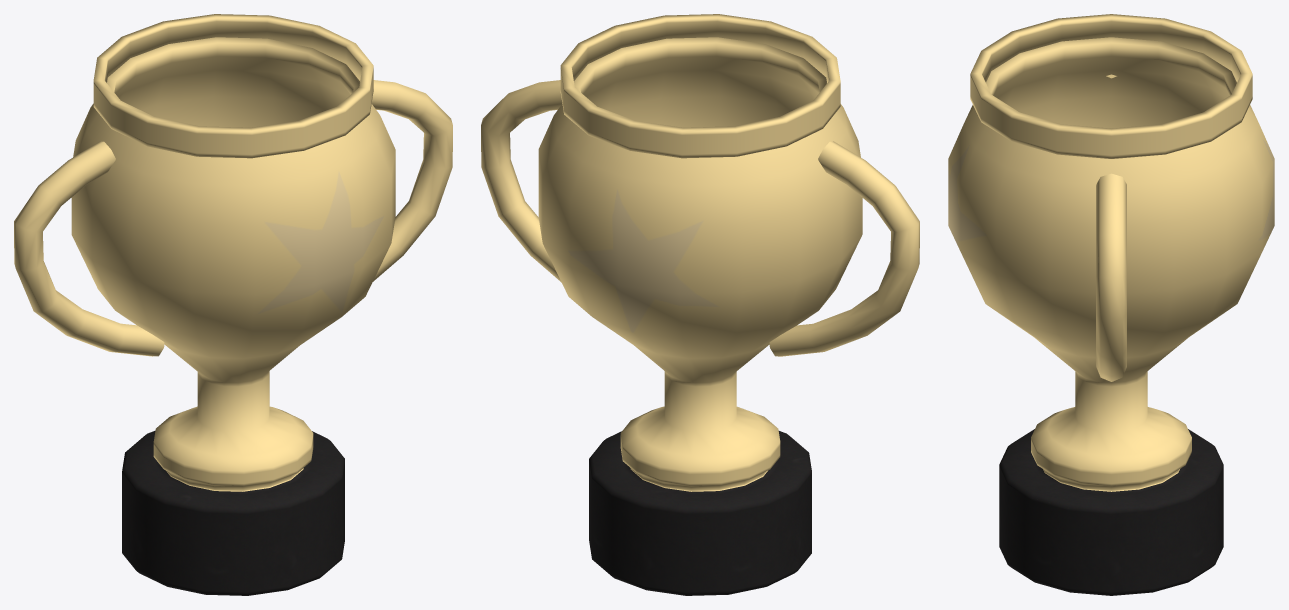
Rendered from wanderpokal_sport.glb.
The picture shows the model from 3 angles, left to right: view 1: azimuth 30°, elevation 25°; view 2: azimuth 150°, elevation 25°; view 3: azimuth 270°, elevation 25°; orthographic projection.
Parts seen in each view (by area): view 1: Circle, Circle.001; view 2: Circle, Circle.001; view 3: Circle, Circle.001.
Boxes of the visible parts, left/top/right/bottom form: Circle: left=71, top=14, right=395, bottom=595; Circle.001: left=14, top=80, right=452, bottom=356; Circle: left=538, top=14, right=862, bottom=595; Circle.001: left=481, top=80, right=919, bottom=356; Circle: left=948, top=14, right=1274, bottom=595; Circle.001: left=1096, top=74, right=1126, bottom=381.
Size of the model in its own units: 2.27 by 2.38 by 1.48.
Materials: 1 (1 with a texture image).
